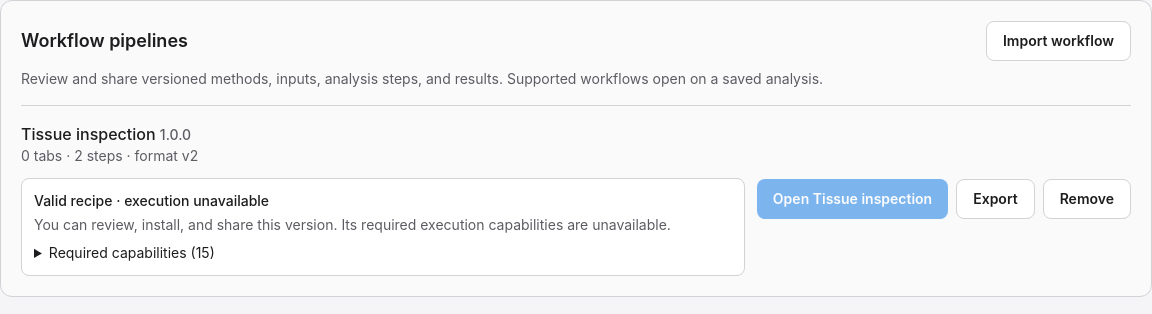
validates persisted recipes and removes an installed v2 version
Click the button "Remove" at (1087,199), box [1043, 179, 1131, 219]
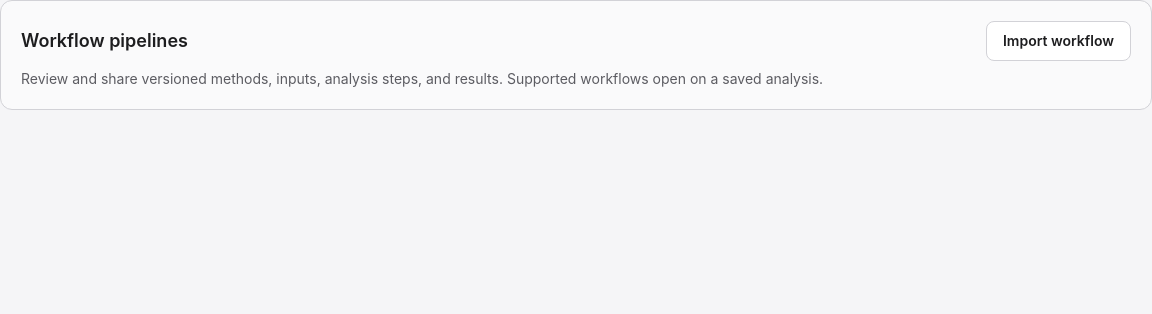
Expected: the button "Open Tissue inspection" is gone
